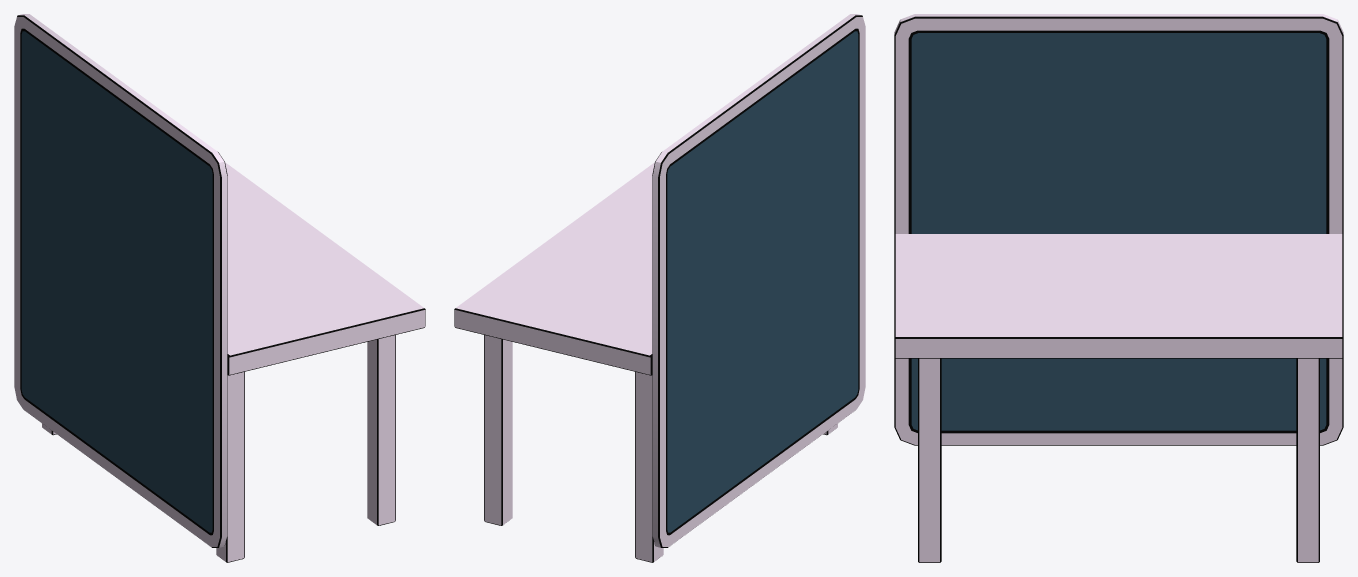
Rendered from SmallDesk.fbx.
The picture shows the model from 3 angles, left to right: view 1: azimuth 30°, elevation 25°; view 2: azimuth 150°, elevation 25°; view 3: azimuth 270°, elevation 25°; orthographic projection. The views are drawn at different scales.
Parts seen in each view (by area): view 1: Small Desk; view 2: Small Desk; view 3: Small Desk.
Boxes of the visible parts, x1,y1,x2,y2 form: Small Desk: (14, 14, 425, 562); Small Desk: (454, 14, 865, 562); Small Desk: (894, 14, 1343, 562).
Bounding box in the file's own units: 2.18 × 4.21 × 3.8.
